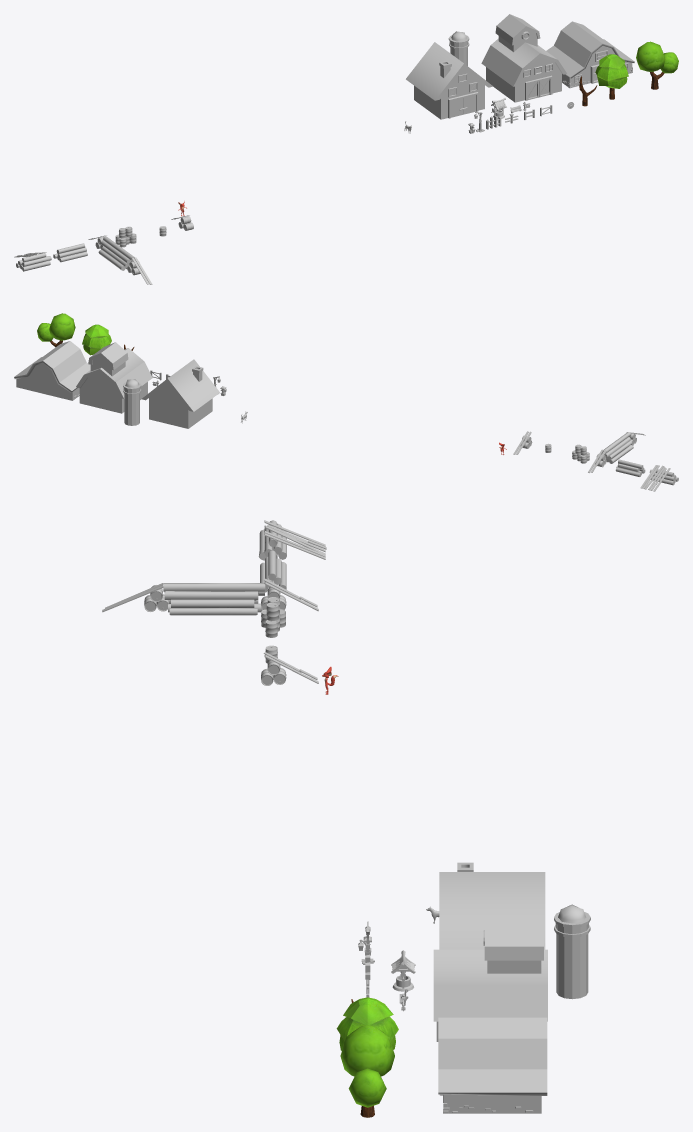
File: BarierProps1.fbx
3 views of the same model, one above another, from view 1: azimuth 30°, elevation 25°; view 2: azimuth 150°, elevation 25°; view 3: azimuth 270°, elevation 25° (orthographic). The views are drawn at different scales.
Parts seen in each view (by area): view 1: Ambar_02, Ambar_01, Ambar_03, Trees_01, Box002.001, Trees_02, Cylinder012, Cylinder012.001; view 2: Ambar_01, Ambar_02, Ambar_03, Trees_01, Box002.001, Trees_02, Cylinder012, Cylinder012.001; view 3: Ambar_03, Ambar_02, Ambar_01, Box002.001, Trees_01, Trees_02, Cylinder012.
Boxes of the visible parts, left/top/right/bottom form: Ambar_02: left=481, top=14, right=566, bottom=102; Ambar_01: left=406, top=31, right=493, bottom=119; Ambar_03: left=546, top=21, right=634, bottom=88; Trees_01: left=636, top=41, right=678, bottom=89; Box002.001: left=88, top=235, right=152, bottom=284; Trees_02: left=595, top=54, right=628, bottom=99; Cylinder012: left=14, top=252, right=51, bottom=271; Cylinder012.001: left=53, top=243, right=87, bottom=262; Ambar_01: left=123, top=359, right=219, bottom=428; Ambar_02: left=76, top=342, right=152, bottom=413; Ambar_03: left=14, top=341, right=90, bottom=400; Trees_01: left=37, top=313, right=75, bottom=347; Box002.001: left=588, top=432, right=645, bottom=472; Trees_02: left=82, top=324, right=111, bottom=355; Cylinder012: left=640, top=465, right=678, bottom=491; Cylinder012.001: left=615, top=459, right=645, bottom=476; Ambar_03: left=438, top=1017, right=547, bottom=1113; Ambar_02: left=433, top=919, right=547, bottom=1041; Ambar_01: left=439, top=862, right=590, bottom=999; Box002.001: left=102, top=578, right=318, bottom=615; Trees_01: left=340, top=1025, right=394, bottom=1117; Trees_02: left=336, top=997, right=398, bottom=1050; Cylinder012: left=258, top=520, right=326, bottom=560.
Bounding box in the file's own units: 7972 × 730 × 2745.
